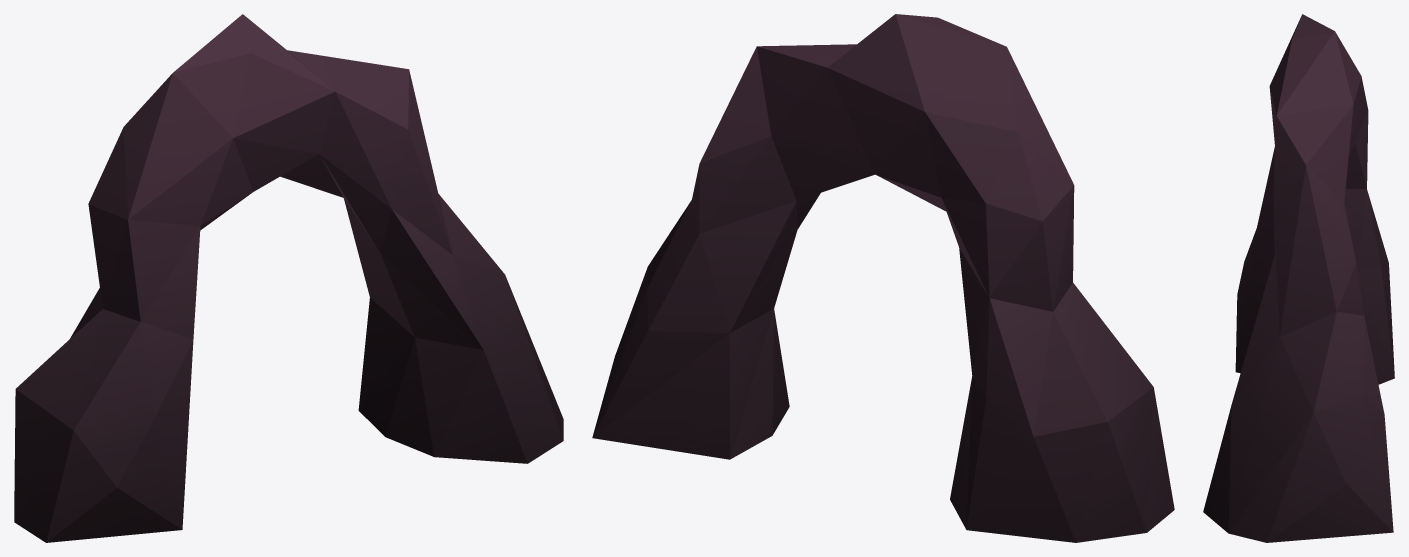
File: SM_Rock_Arc_3.fbx
The picture shows the model from 3 angles, left to right: view 1: azimuth 30°, elevation 25°; view 2: azimuth 150°, elevation 25°; view 3: azimuth 270°, elevation 25°; orthographic projection. The views are drawn at different scales.
Parts seen in each view (by area): view 1: Rock_Arc_3; view 2: Rock_Arc_3; view 3: Rock_Arc_3.
Boxes of the visible parts, x1=… form: Rock_Arc_3: x1=14, y1=14, x2=563, y2=542; Rock_Arc_3: x1=592, y1=14, x2=1174, y2=542; Rock_Arc_3: x1=1203, y1=14, x2=1394, y2=542.
Bounding box in the file's own units: 240 × 198 × 87.99.
Materials: 1 (1 with a texture image).
